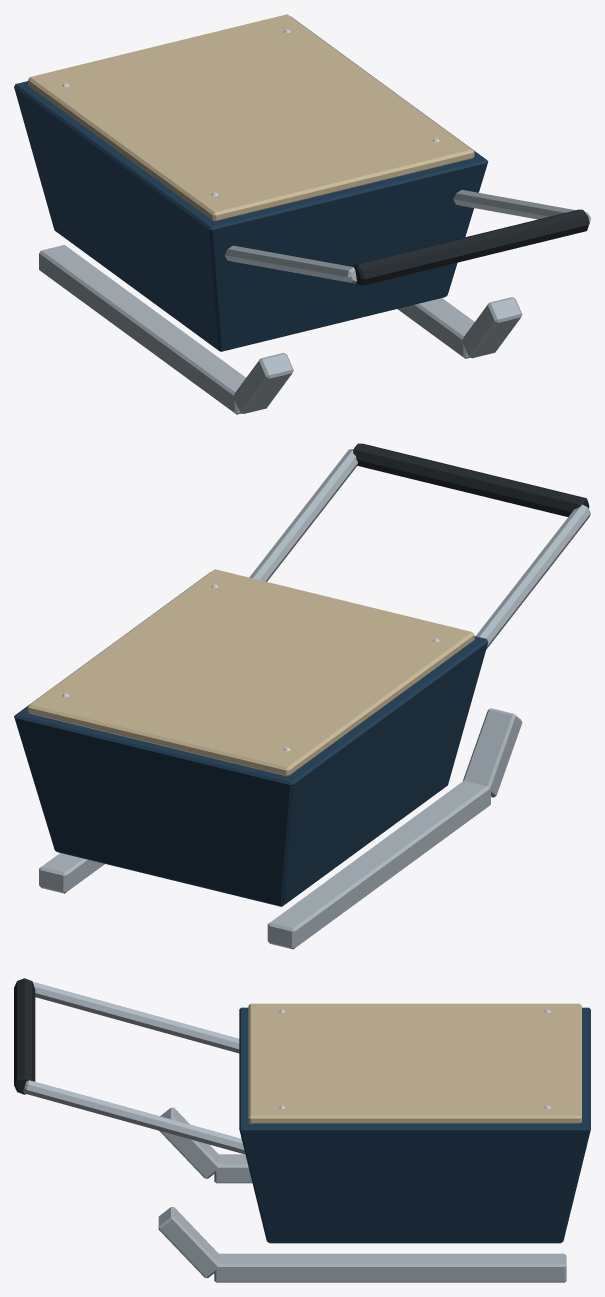
The model's file is b20_towable_ice_grit_sledge.glb.
3 renders of one model, top to bottom at view 1: azimuth 30°, elevation 25°; view 2: azimuth 150°, elevation 25°; view 3: azimuth 270°, elevation 25°, orthographic. The views are drawn at different scales.
Visible parts, largest first — view 1: b20_towable_ice_grit_sledge; view 2: b20_towable_ice_grit_sledge; view 3: b20_towable_ice_grit_sledge.
Boxes of the visible parts, left/top/right/bottom form: b20_towable_ice_grit_sledge: left=14, top=14, right=590, bottom=414; b20_towable_ice_grit_sledge: left=14, top=443, right=590, bottom=949; b20_towable_ice_grit_sledge: left=14, top=978, right=590, bottom=1282.
Size of the model in its own units: 0.7578 by 0.5855 by 1.52.
